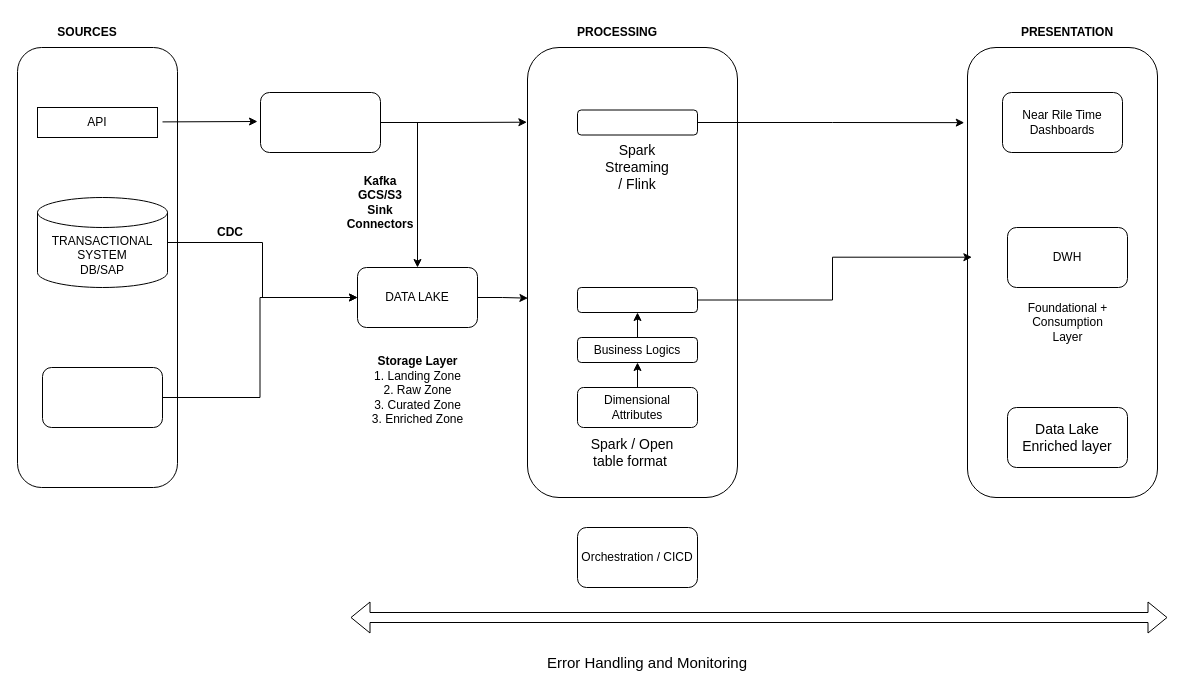
This 1185x694 diagram has some shape labels left out. Here are the shapes that lost their labels. From the top down, the centre of each, then its label:
pixel 320 122: KAFKA
pixel 637 122: METRICS SET 1
pixel 637 299: METRICS SET 2
pixel 102 397: FILES
